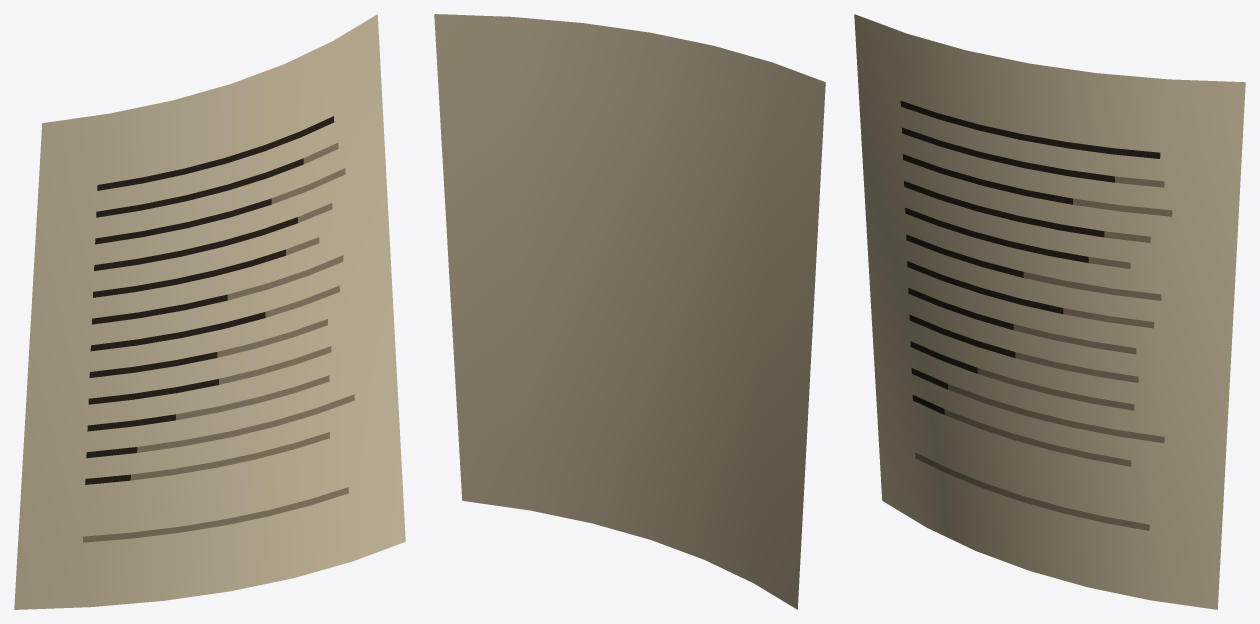
Rendered from page_half_erased.glb.
3 renders of one model, left to right at view 1: azimuth 30°, elevation 25°; view 2: azimuth 150°, elevation 25°; view 3: azimuth 330°, elevation 25°, orthographic.
Visible parts, largest first — view 1: page_half_erased; view 2: page_half_erased; view 3: page_half_erased.
Part boxes in pixels (box(x1,y1,x2,y2)): page_half_erased: box(14, 14, 405, 609); page_half_erased: box(434, 14, 825, 609); page_half_erased: box(854, 14, 1245, 609).
Size of the model in its own units: 0.3 by 0.4 by 0.0533.
